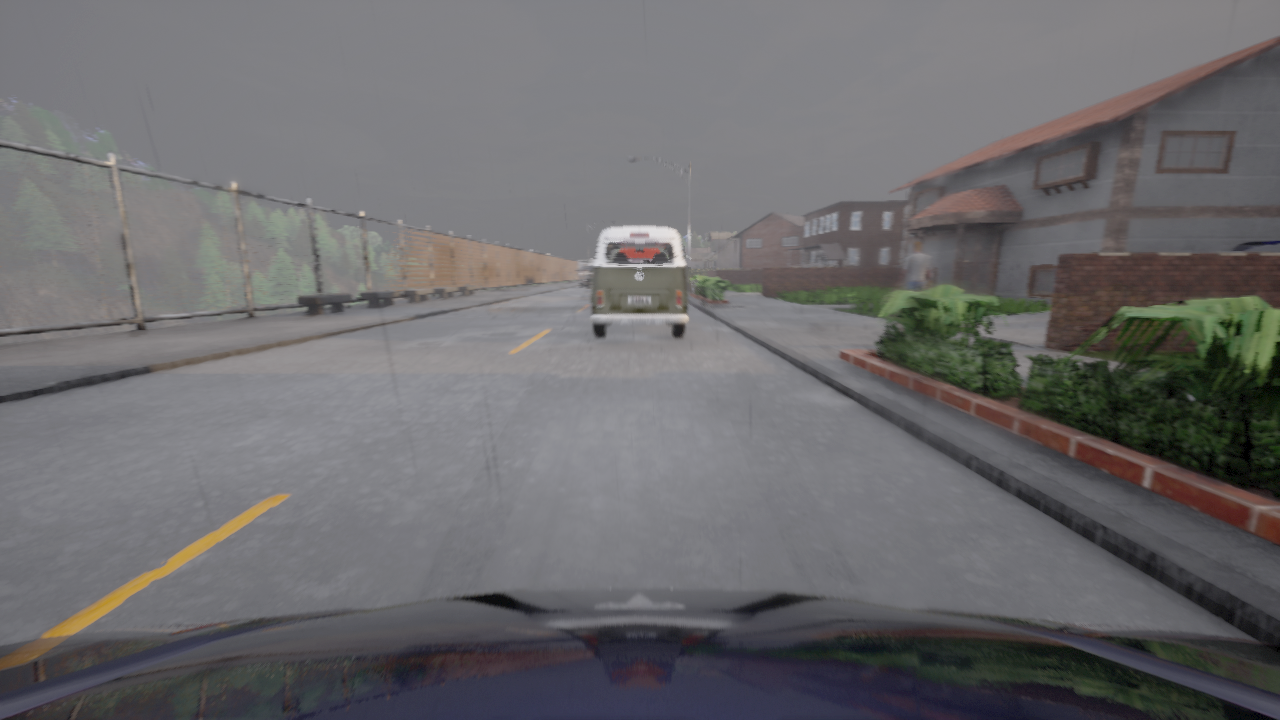cyclist: (0, 588, 1279, 719), (590, 226, 688, 337), (1230, 240, 1279, 252), (575, 259, 594, 288), (894, 258, 902, 266)
pedestrian: (895, 241, 931, 291)
